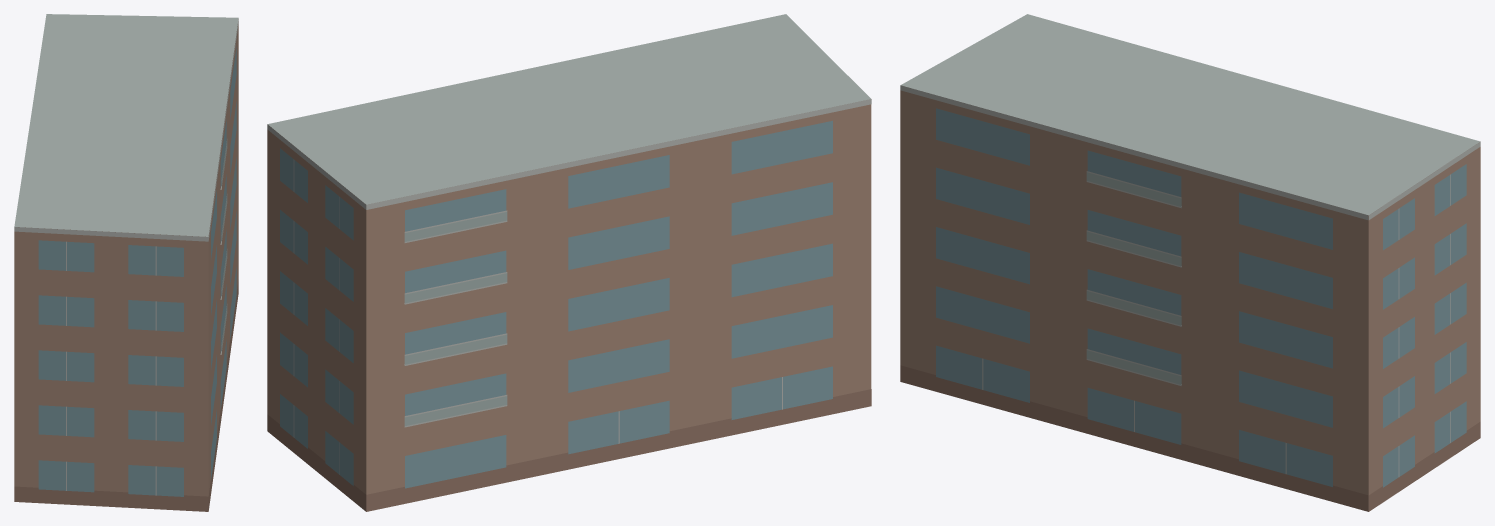
Rendered from survey-upis-33014409.glb.
The picture shows the model from 3 angles, left to right: view 1: azimuth 30°, elevation 25°; view 2: azimuth 150°, elevation 25°; view 3: azimuth 270°, elevation 25°; orthographic projection. The views are drawn at different scales.
Visible parts, largest first — view 1: survey-upis-33014409.tmp; view 2: survey-upis-33014409.tmp; view 3: survey-upis-33014409.tmp.
Part boxes in pixels (box(x1,y1,x2,y2)): survey-upis-33014409.tmp: box(14, 14, 238, 511); survey-upis-33014409.tmp: box(267, 14, 871, 511); survey-upis-33014409.tmp: box(900, 14, 1480, 511).
Size of the model in its own units: 20.68 by 14.2 by 25.18.
